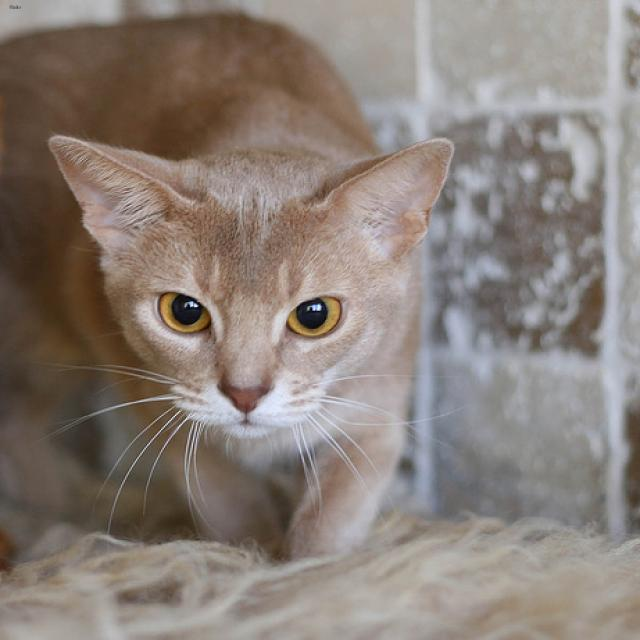Abyssinian: (47, 134, 451, 438)
